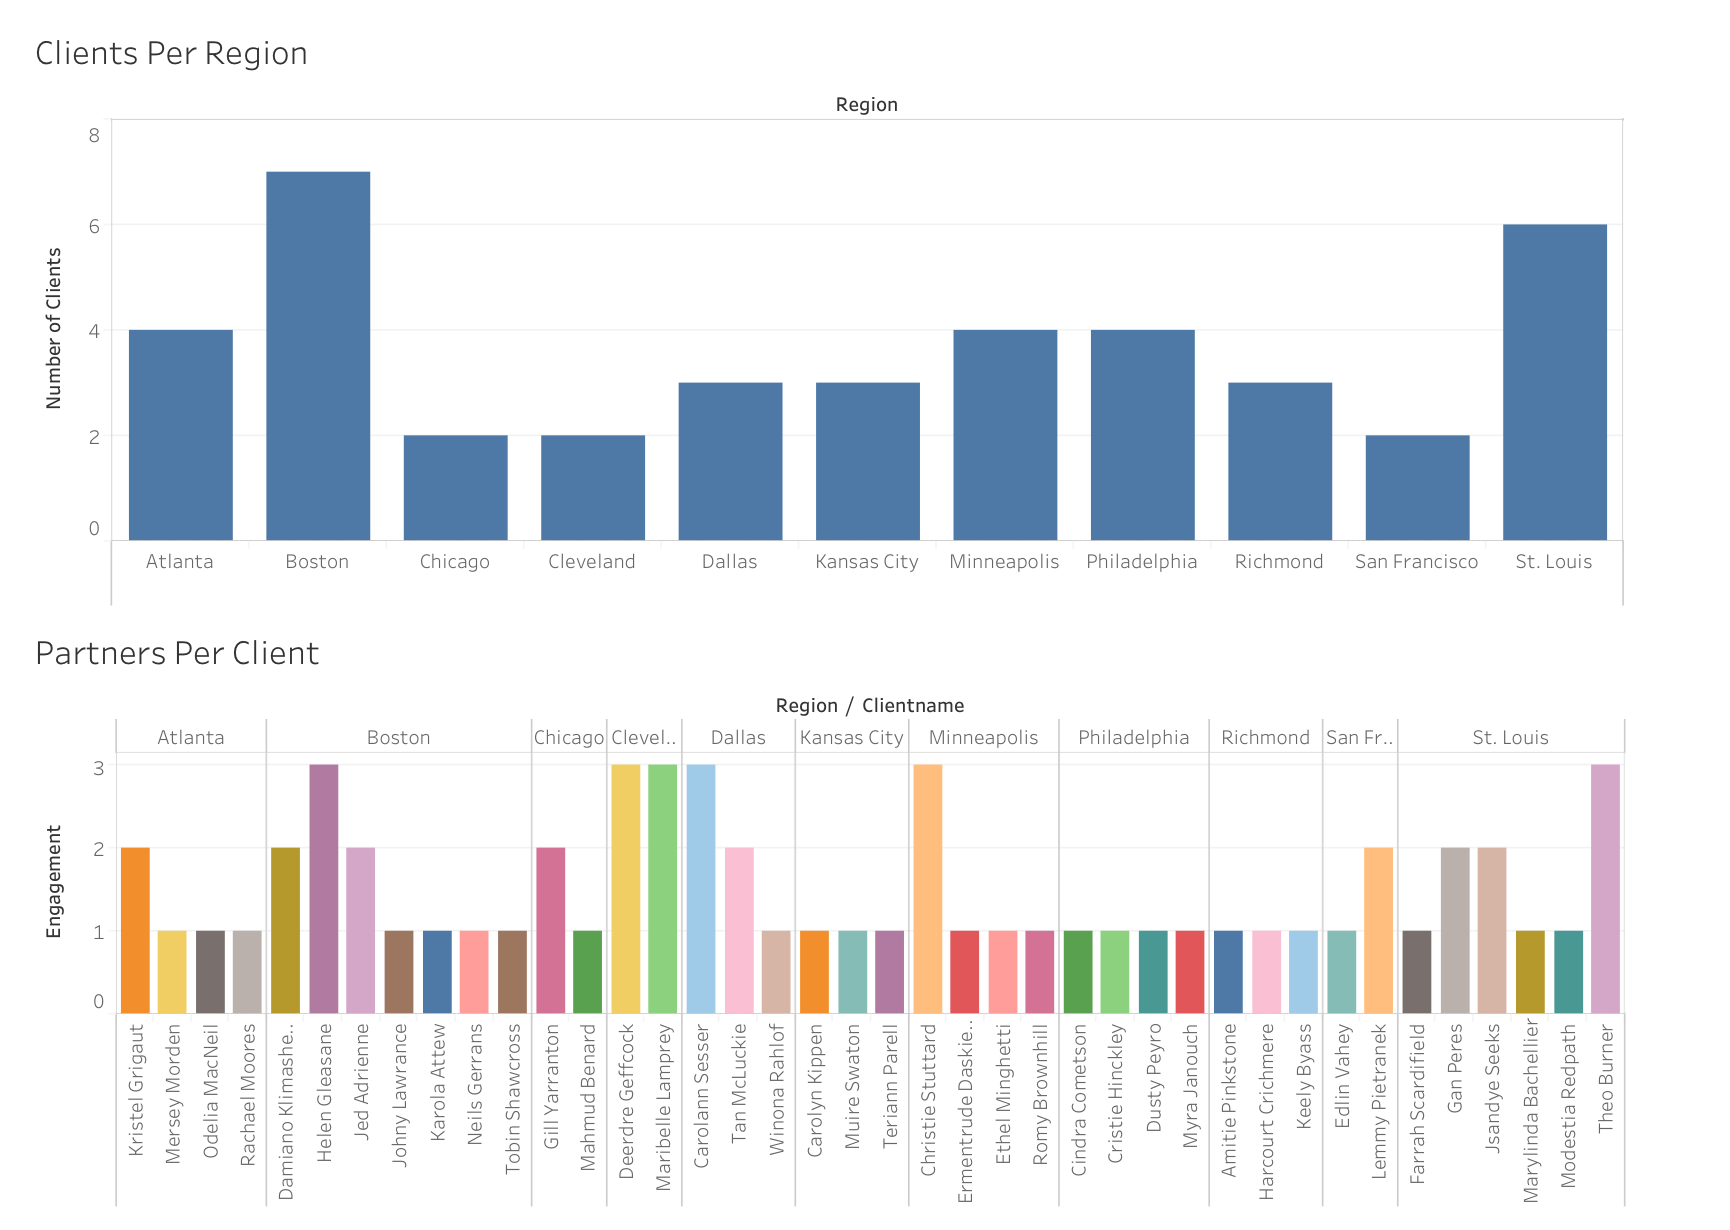

What the dashboard file says about the page in this screenshot:
{"tool":"tableau","page":{"name":"Dashboard 1","canvas":[1024,768],"ordinal":0},"visuals":[{"type":"worksheet","title":"Clients Per Region","mark":"Automatic","rows":["CLIENTREPORT_VW_B25E8B2D15414FE19F04FF1E7C723FB4"],"cols":["REGION"],"box":[8,8,1008,376]},{"type":"worksheet","title":"Partners Per Client","mark":"Automatic","rows":["ENGAGEMENT"],"cols":["REGION","CLIENTNAME"],"box":[8,384,1008,376]}]}

Visuals, with their boxes on the page's 1024x768 design canvas (x1, y1, x2, y2). These are canvas units, not pixel positions in the 1730x1230 screenshot, which may show the page scaled, cropped or inside an application window:
"Clients Per Region" worksheet: Rect(8, 8, 1016, 384)
"Partners Per Client" worksheet: Rect(8, 384, 1016, 760)
